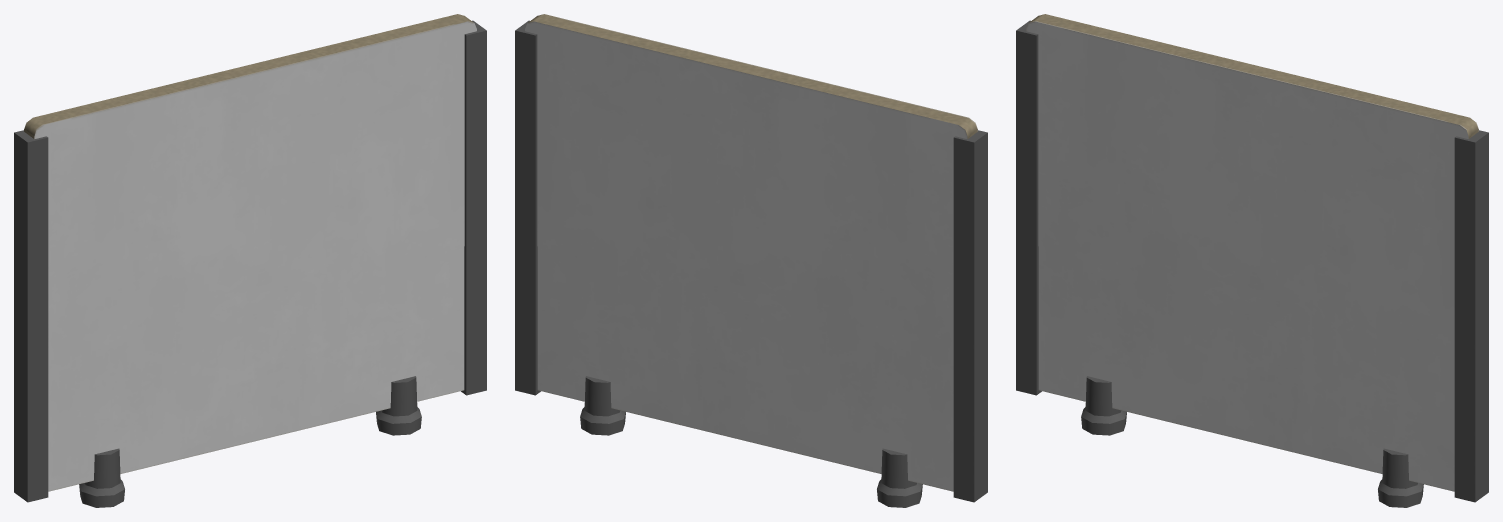
File: Pfb_WC_Board__3.fbx
3 views of the same model, side by side, from view 1: azimuth 30°, elevation 25°; view 2: azimuth 150°, elevation 25°; view 3: azimuth 330°, elevation 25° (orthographic).
Parts seen in each view (by area): view 1: MAT_WC_Board_White 1; view 2: MAT_WC_Board_White 1; view 3: MAT_WC_Board_White 1.
Part boxes in pixels (x1,y1,x2,y2): MAT_WC_Board_White 1: (14,14,486,507); MAT_WC_Board_White 1: (515,14,987,507); MAT_WC_Board_White 1: (1016,14,1488,507).
Size of the model in its own units: 2.43 by 1.99 by 0.2185.
Materials: 1 (1 with a texture image).
